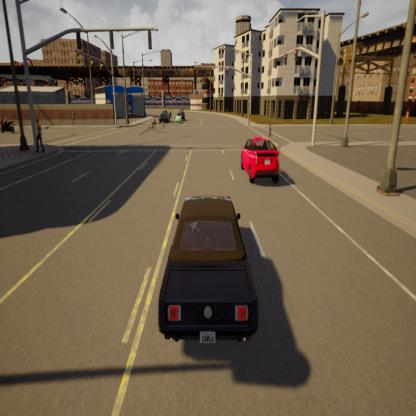Cars: (155, 193, 263, 353), (238, 134, 283, 187), (0, 110, 15, 140), (148, 109, 160, 134), (176, 113, 183, 125)
Pedestrian: (34, 115, 45, 154)
